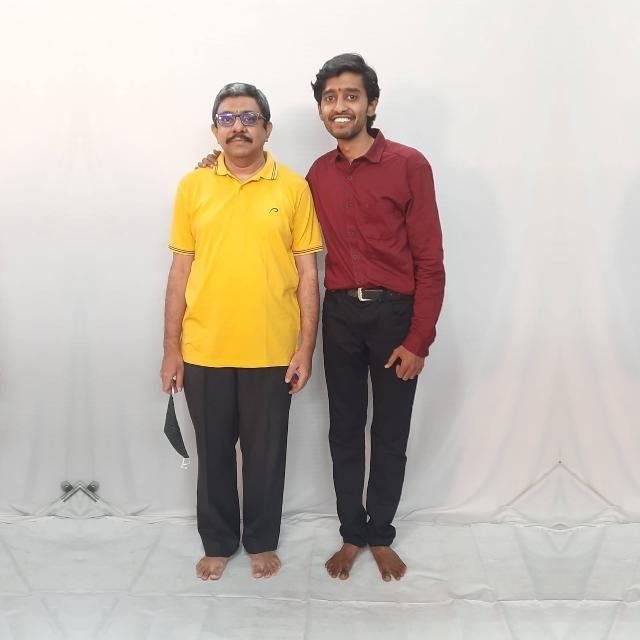person: (291, 58, 437, 616), (182, 71, 298, 594)
